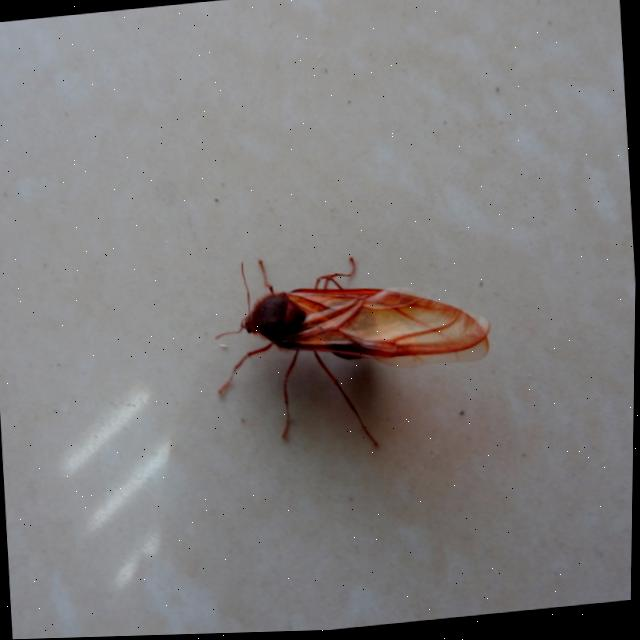Alive-Male-Alate: (210, 240, 500, 465)
